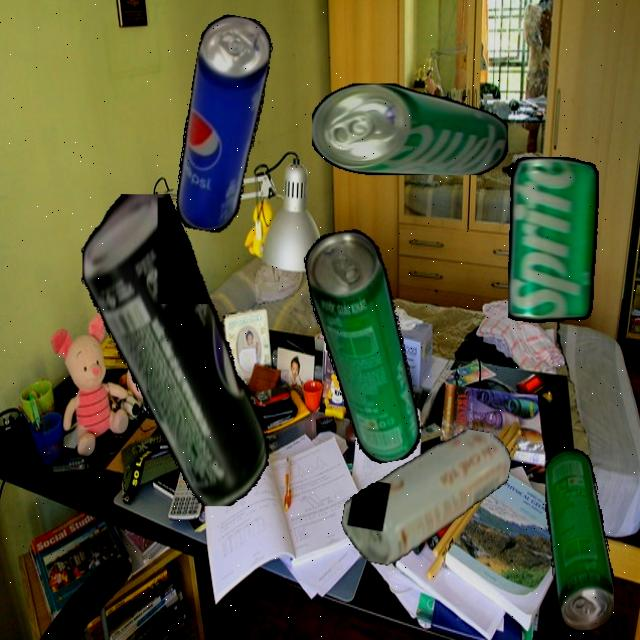debris: (80, 193, 268, 506), (336, 410, 515, 582), (300, 224, 425, 470), (168, 11, 277, 237), (508, 156, 628, 323), (312, 83, 508, 175), (544, 448, 614, 630)
